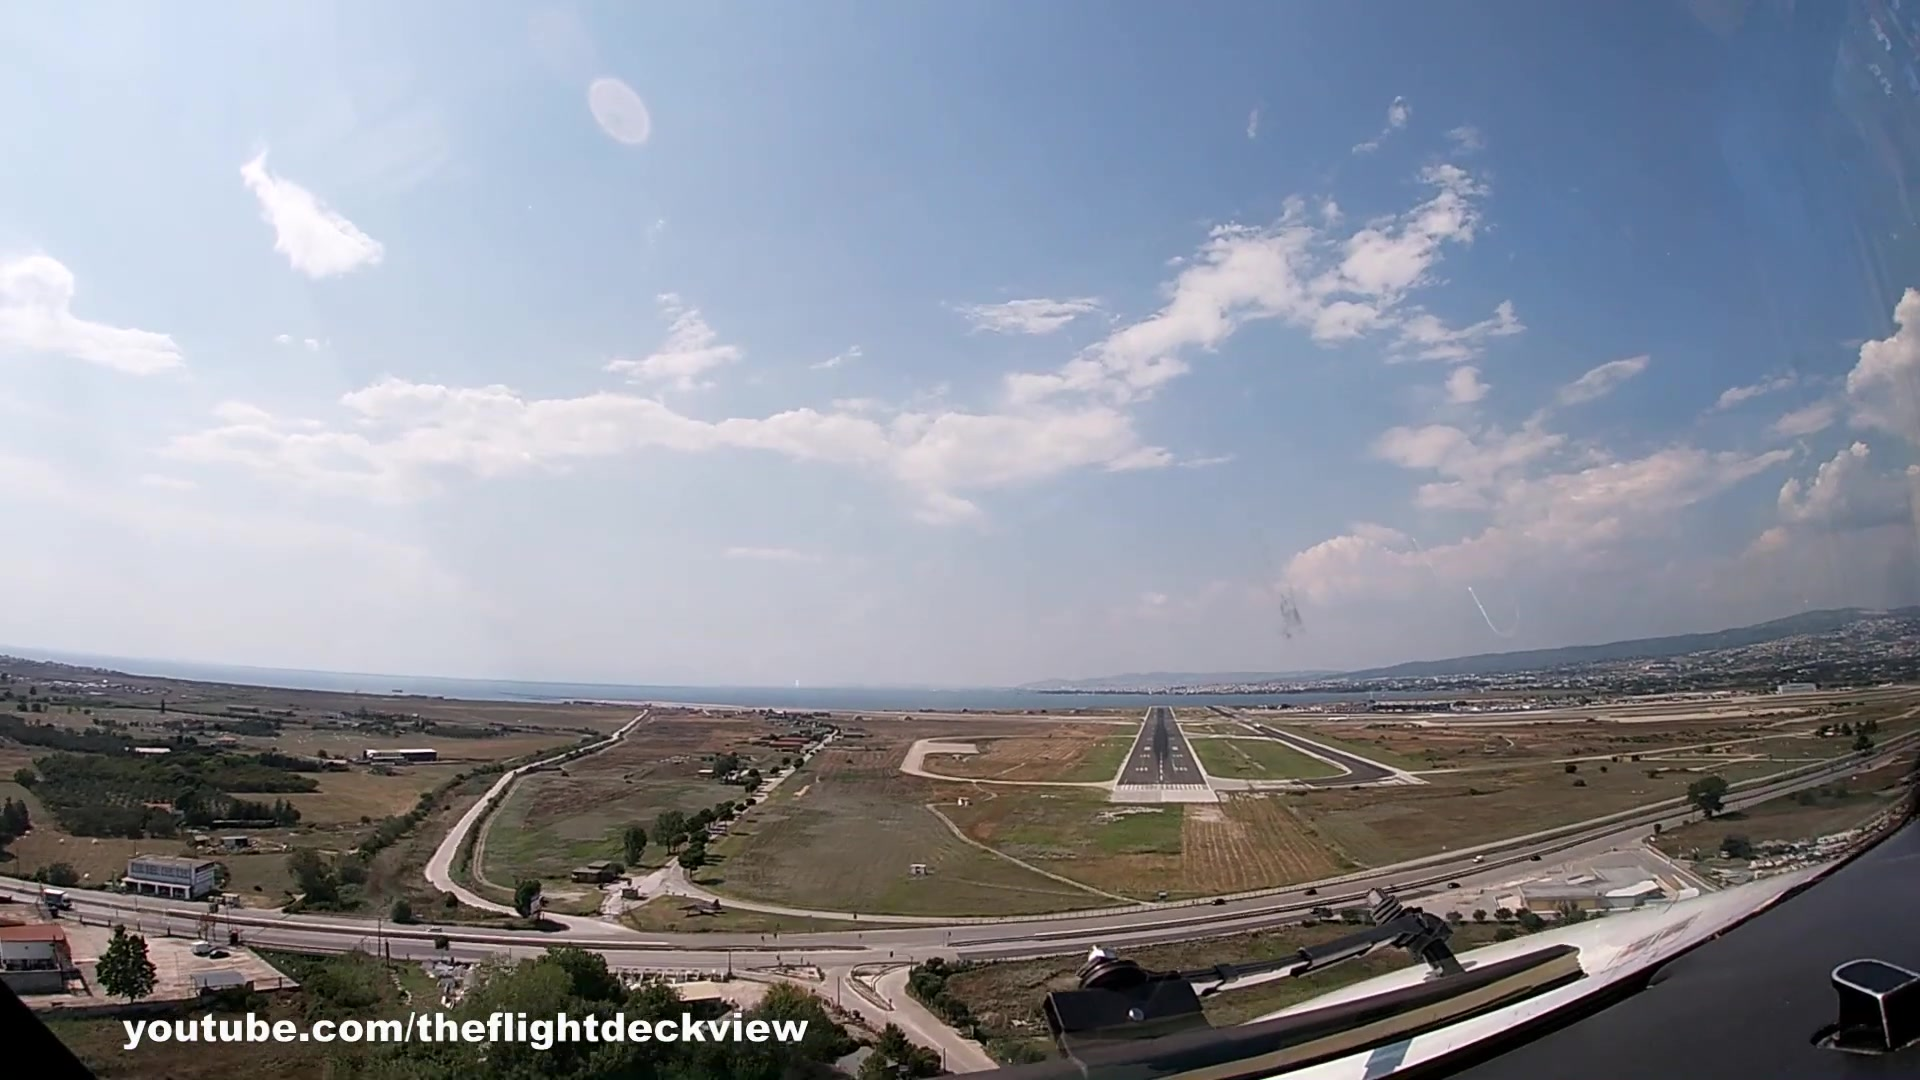entrance: (1118, 783, 1207, 791)
runway: (1106, 705, 1218, 794)
